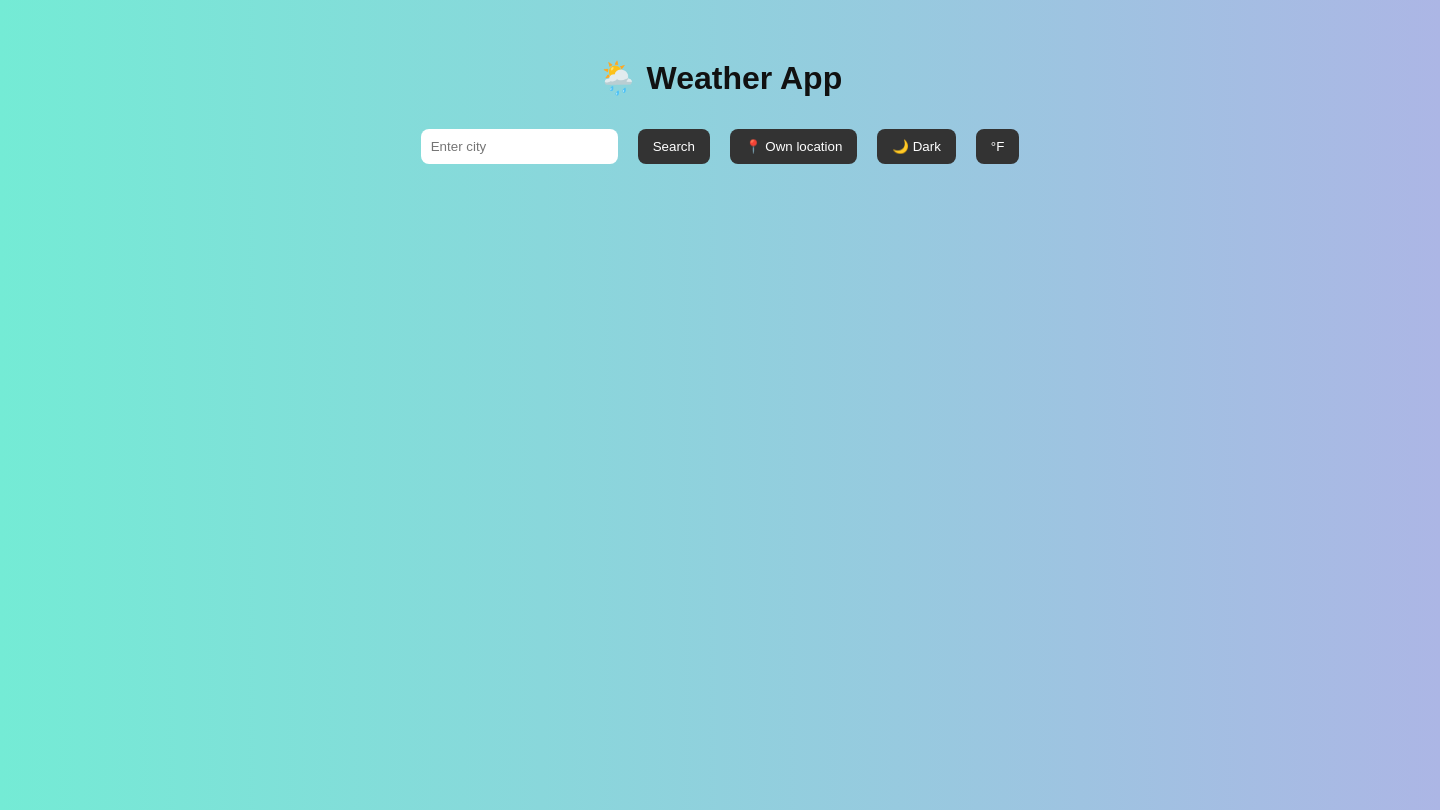
Test: Weather › shows sunrise and sunset in the searched city's local time
The image size is (1440, 810).
Step 1. Type "Tokyo" into the field labelled "city" → (519, 146), box [421, 129, 618, 164]
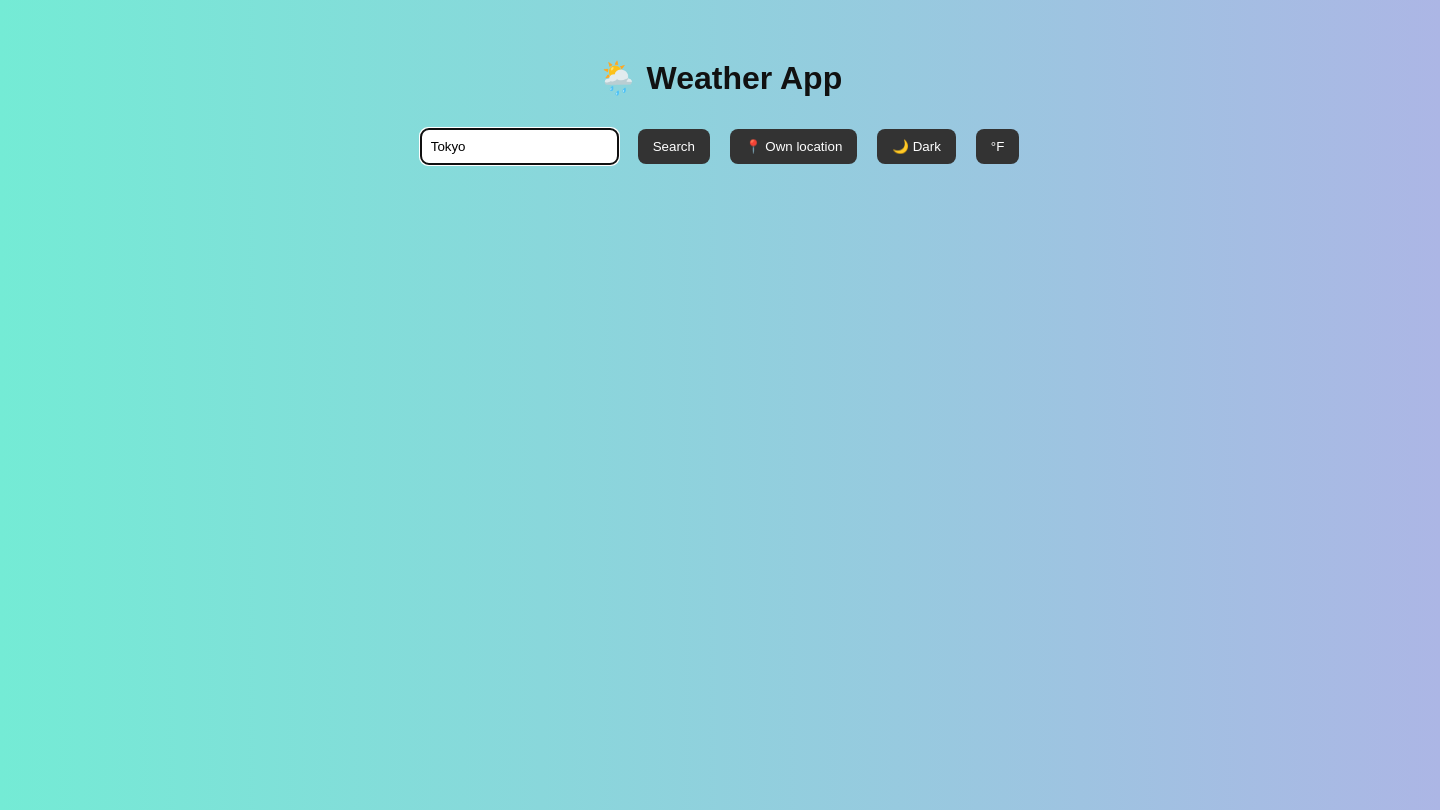
Step 2. Click the button "Search" → (674, 146), box [638, 129, 710, 164]
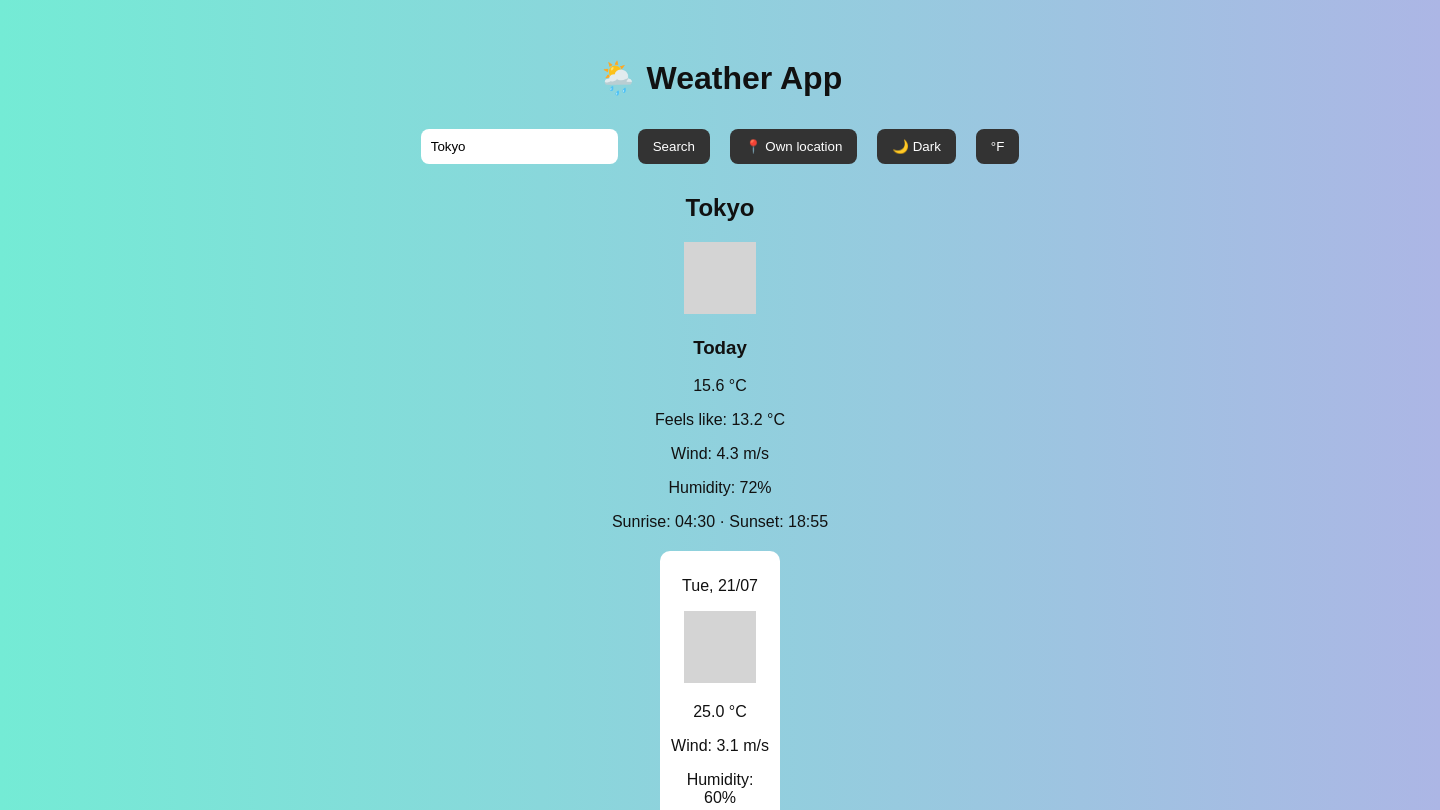
Now the heading "Tokyo" is shown, box [686, 194, 754, 221]
Now the text "Sunrise: 04:30 · Sunset: 18:55" is shown, box [612, 513, 828, 530]
